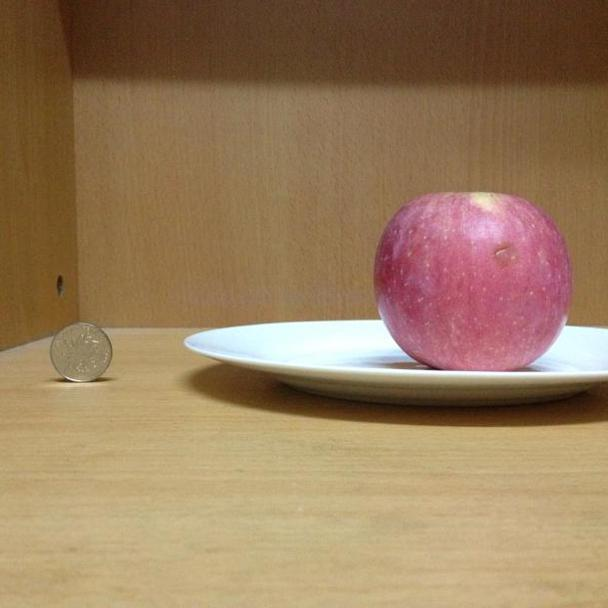apple: (371, 185, 576, 369)
